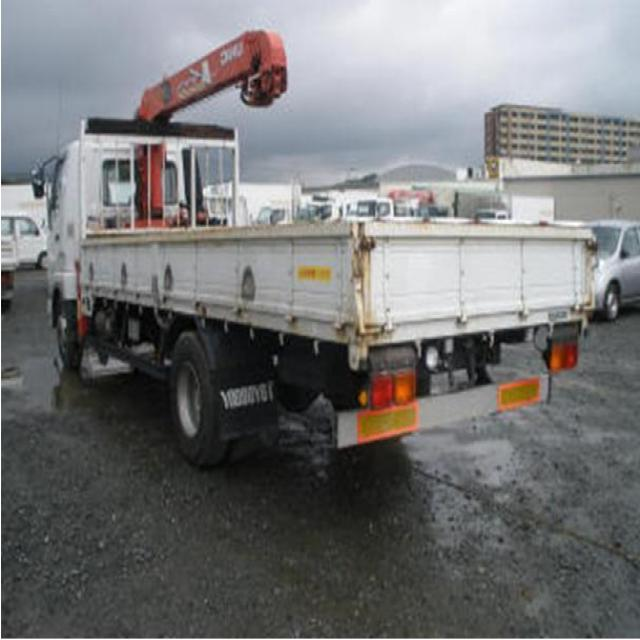truck: (31, 25, 595, 461)
